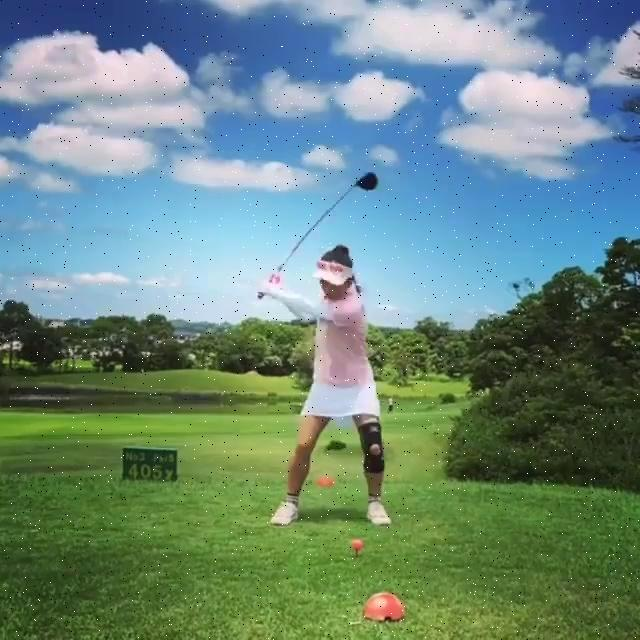golf ball: (352, 539, 363, 549)
golf club-handle: (258, 172, 378, 299)
golf club-head: (358, 172, 378, 192)
